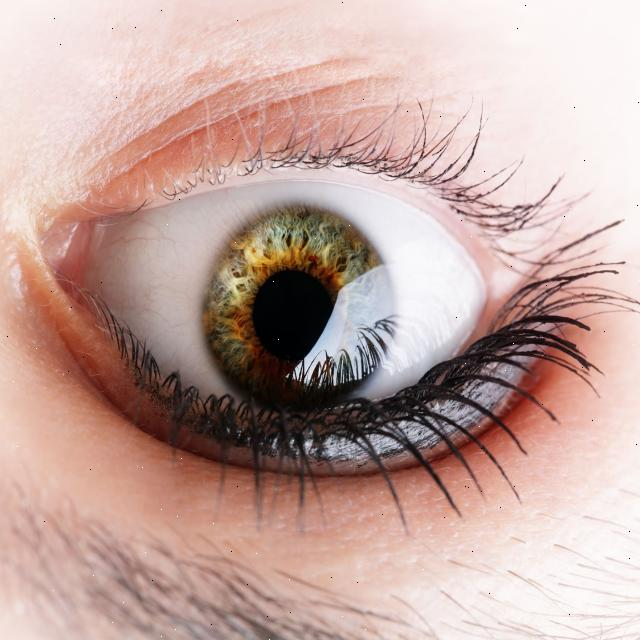Normal: (205, 204, 398, 419)
